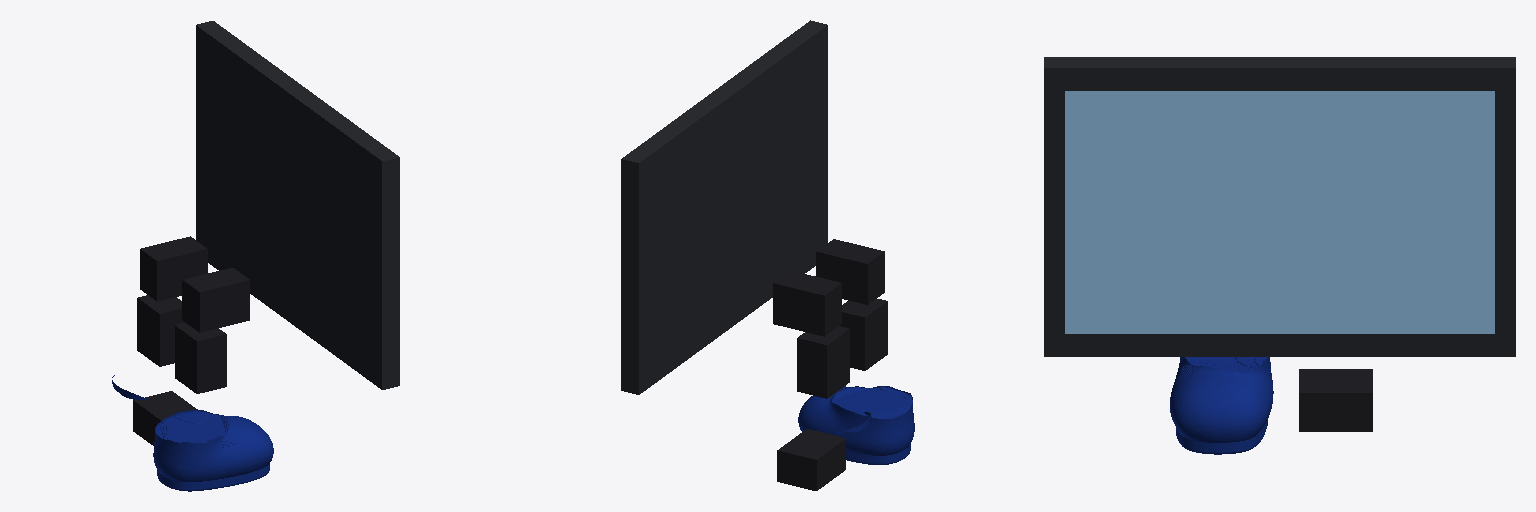
The robot description file, URDF, robot "haetburi":
<?xml version="1.0"?>
<!-- Haetburi biped (v17_xl330) - generated by tools/build_model.py, do not edit by hand -->
<robot name="haetburi">
  <mujoco>
    <compiler meshdir="." balanceinertia="true" discardvisual="false" strippath="false" fusestatic="false"/>
  </mujoco>
  <material name="display"><color rgba="0.18 0.19 0.21 1"/></material>
  <material name="screen"><color rgba="0.62 0.80 0.95 1"/></material>
  <material name="shell"><color rgba="0.106 0.216 0.541 1"/></material>
  <material name="motor"><color rgba="0.15 0.15 0.17 1"/></material>
  <material name="foot"><color rgba="0.25 0.25 0.28 1"/></material>
  <link name="world"/>
  <joint name="floating_base" type="floating">
    <parent link="world"/><child link="pelvis"/>
    <origin xyz="0 0 0" rpy="0 0 0"/>
  </joint>
  <link name="pelvis">
    <inertial>
      <origin xyz="-0.00666957 -8.5472e-05 0.0445616" rpy="0 0 0"/>
      <mass value="0.267671"/>
      <inertia ixx="0.000335398" ixy="2.19042e-07" ixz="9.11995e-05" iyy="0.00041301" iyz="-4.80588e-07" izz="0.000347803"/>
    </inertial>
    <visual><origin xyz="0 0 0" rpy="0 0 0"/><geometry><mesh filename="meshes/pelvis.stl"/></geometry><material name="shell"/></visual>
    <visual><origin xyz="0.0153026 0.0245857 0.0585" rpy="0 0 0"/><geometry><box size="0.034 0.02 0.026"/></geometry><material name="motor"/></visual>
    <visual><origin xyz="0.0152974 -0.024889 0.0585" rpy="0 0 0"/><geometry><box size="0.034 0.02 0.026"/></geometry><material name="motor"/></visual>
    <collision><origin xyz="0.0074988 -0.000146911 0.0206246" rpy="0 0 0"/><geometry><box size="0.089907 0.119391 0.0636709"/></geometry></collision>
  </link>
  <link name="torso">
    <inertial>
      <origin xyz="0.0209973 0.000105379 0.131628" rpy="0 0 0"/>
      <mass value="2.15535"/>
      <inertia ixx="0.0354852" ixy="-0.000105161" ixz="0.0063203" iyy="0.0356991" iyz="-0.000100818" izz="0.0195041"/>
    </inertial>
    <visual><origin xyz="0 0 0" rpy="0 0 0"/><geometry><mesh filename="meshes/torso.stl"/></geometry><material name="shell"/></visual>
    <visual><origin xyz="0.0843686 0 0.0406669" rpy="0 0 0"/><geometry><box size="0.011868 0.217236 0.146854"/></geometry><material name="display"/></visual>
    <visual><origin xyz="0.0903026 0 0.0406669" rpy="0 0 0"/><geometry><box size="0.0004 0.198144 0.12384"/></geometry><material name="screen"/></visual>
    <collision><origin xyz="-0.0391719 -1.82352e-06 0.0288995" rpy="0 0 0"/><geometry><box size="0.183869 0.124676 0.122779"/></geometry></collision>
    <collision><origin xyz="0.0478332 0.0965728 0.0582346" rpy="0 0 0"/><geometry><sphere radius="0.0698567"/></geometry></collision>
    <collision><origin xyz="0.0481639 -0.0967208 0.0582346" rpy="0 0 0"/><geometry><sphere radius="0.0697895"/></geometry></collision>
    <collision><origin xyz="-0.00600387 0.000307043 0.117894" rpy="0 0 0"/><geometry><sphere radius="0.119818"/></geometry></collision>
    <collision><origin xyz="-0.010462 -0.000141163 0.173068" rpy="0 0 0"/><geometry><sphere radius="0.138234"/></geometry></collision>
    <collision><origin xyz="-0.0159306 -0.000232984 0.22825" rpy="0 0 0"/><geometry><sphere radius="0.136633"/></geometry></collision>
    <collision><origin xyz="-0.0124975 0.000984204 0.28343" rpy="0 0 0"/><geometry><sphere radius="0.118808"/></geometry></collision>
    <collision><origin xyz="-0.00739515 0.00779025 0.338644" rpy="0 0 0"/><geometry><sphere radius="0.0846824"/></geometry></collision>
    <collision><origin xyz="-0.0135526 -0.00257485 0.393809" rpy="0 0 0"/><geometry><sphere radius="0.0491437"/></geometry></collision>
    <collision><origin xyz="0.0843686 0 0.0406669" rpy="0 0 0"/><geometry><box size="0.011868 0.217236 0.146854"/></geometry></collision>
  </link>
  <link name="leg_l">
    <inertial>
      <origin xyz="-0.000699487 0.00291179 -0.0292972" rpy="0 0 0"/>
      <mass value="0.0242306"/>
      <inertia ixx="8.87128e-06" ixy="-5.11432e-08" ixz="8.10992e-08" iyy="7.69079e-06" iyz="8.21055e-09" izz="3.12544e-06"/>
    </inertial>
    <visual><origin xyz="0 0 0" rpy="0 0 0"/><geometry><mesh filename="meshes/leg_l.stl"/></geometry><material name="shell"/></visual>
    <collision><origin xyz="-0.0235945 0.00314161 -0.0245021" rpy="0 0 0"/><geometry><box size="0.0109644 0.0364972 0.00495935"/></geometry></collision>
  </link>
  <link name="hip_l">
    <inertial>
      <origin xyz="0 -0.0025438 0.0216296" rpy="0 0 0"/>
      <mass value="0.0258671"/>
      <inertia ixx="2.96738e-06" ixy="0" ixz="0" iyy="2.54106e-06" iyz="5.05018e-08" izz="1.62632e-06"/>
    </inertial>
    <visual><origin xyz="0 -0.003 0.0235" rpy="0 0 0"/><geometry><box size="0.02 0.026 0.034"/></geometry><material name="motor"/></visual>
  </link>
  <link name="foot_l">
    <inertial>
      <origin xyz="0.000570459 0.00729492 -0.00247672" rpy="0 0 0"/>
      <mass value="0.0748228"/>
      <inertia ixx="1.96951e-05" ixy="-9.29192e-07" ixz="-2.12843e-07" iyy="2.7127e-05" iyz="-1.3687e-06" izz="3.21932e-05"/>
    </inertial>
    <visual><origin xyz="0 0 0" rpy="0 0 0"/><geometry><mesh filename="meshes/foot_l.stl"/></geometry><material name="shell"/></visual>
    <visual><origin xyz="0 0.0088 5.38845e-19" rpy="0 0 0"/><geometry><box size="0.026 0.034 0.02"/></geometry><material name="motor"/></visual>
    <collision><origin xyz="0 0 0" rpy="0 0 0"/><geometry><mesh filename="meshes/foot_l.stl"/></geometry></collision>
  </link>
  <link name="leg_r">
    <inertial>
      <origin xyz="-0.000620053 -0.00292149 -0.0292557" rpy="0 0 0"/>
      <mass value="0.0241549"/>
      <inertia ixx="8.84594e-06" ixy="4.63019e-08" ixz="7.42586e-08" iyy="7.62395e-06" iyz="-7.75735e-09" izz="3.06764e-06"/>
    </inertial>
    <visual><origin xyz="0 0 0" rpy="0 0 0"/><geometry><mesh filename="meshes/leg_r.stl"/></geometry><material name="shell"/></visual>
    <collision><origin xyz="-0.0239188 -0.00217682 -0.0244277" rpy="0 0 0"/><geometry><box size="0.0102409 0.0341275 0.00479304"/></geometry></collision>
  </link>
  <link name="hip_r">
    <inertial>
      <origin xyz="0 0.0025438 0.0216296" rpy="0 0 0"/>
      <mass value="0.0258671"/>
      <inertia ixx="2.96738e-06" ixy="0" ixz="0" iyy="2.54106e-06" iyz="-5.05018e-08" izz="1.62632e-06"/>
    </inertial>
    <visual><origin xyz="0 0.003 0.0235" rpy="0 0 0"/><geometry><box size="0.02 0.026 0.034"/></geometry><material name="motor"/></visual>
  </link>
  <link name="foot_r">
    <inertial>
      <origin xyz="0.000927024 -0.00706758 -0.0025199" rpy="0 0 0"/>
      <mass value="0.0746564"/>
      <inertia ixx="1.95107e-05" ixy="1.01942e-06" ixz="-2.354e-07" iyy="2.70292e-05" iyz="1.32726e-06" izz="3.20543e-05"/>
    </inertial>
    <visual><origin xyz="0 0 0" rpy="0 0 0"/><geometry><mesh filename="meshes/foot_r.stl"/></geometry><material name="shell"/></visual>
    <visual><origin xyz="0 -0.0088 5.38845e-19" rpy="0 0 0"/><geometry><box size="0.026 0.034 0.02"/></geometry><material name="motor"/></visual>
    <collision><origin xyz="0 0 0" rpy="0 0 0"/><geometry><mesh filename="meshes/foot_r.stl"/></geometry></collision>
  </link>
  <joint name="waist_fixed" type="fixed">
    <parent link="pelvis"/><child link="torso"/>
    <origin xyz="0 0 0.05246" rpy="0 0 0"/>
  </joint>
  <joint name="hip_yaw_l" type="revolute">
    <parent link="pelvis"/><child link="hip_l"/>
    <origin xyz="0.00650265 0.0245857 0" rpy="0 0 0"/>
    <axis xyz="0 0 1"/>
    <limit lower="-0.401426" upper="0.401426" effort="0.52" velocity="10.79"/>
    <dynamics damping="0.037142857142857144" friction="0.014857142857142859"/>
  </joint>
  <joint name="hip_pitch_l" type="revolute">
    <parent link="hip_l"/><child link="leg_l"/>
    <origin xyz="0 -0.003 0.0147" rpy="0 0 0"/>
    <axis xyz="0 1 0"/>
    <limit lower="-0.785398" upper="0.418879" effort="0.52" velocity="10.79"/>
    <dynamics damping="0.037142857142857144" friction="0.014857142857142859"/>
  </joint>
  <joint name="hip_yaw_r" type="revolute">
    <parent link="pelvis"/><child link="hip_r"/>
    <origin xyz="0.00649735 -0.024889 0" rpy="0 0 0"/>
    <axis xyz="0 0 1"/>
    <limit lower="-0.401426" upper="0.401426" effort="0.52" velocity="10.79"/>
    <dynamics damping="0.037142857142857144" friction="0.014857142857142859"/>
  </joint>
  <joint name="hip_pitch_r" type="revolute">
    <parent link="hip_r"/><child link="leg_r"/>
    <origin xyz="0 0.003 0.0147" rpy="0 0 0"/>
    <axis xyz="0 1 0"/>
    <limit lower="-0.785398" upper="0.418879" effort="0.52" velocity="10.79"/>
    <dynamics damping="0.037142857142857144" friction="0.014857142857142859"/>
  </joint>
  <joint name="ankle_roll_l" type="revolute">
    <parent link="leg_l"/><child link="foot_l"/>
    <origin xyz="0.00518133 -0.00442343 -0.05394" rpy="0 0 0"/>
    <axis xyz="1 0 0"/>
    <limit lower="-0.261799" upper="0.261799" effort="0.52" velocity="10.79"/>
    <dynamics damping="0.037142857142857144" friction="0.014857142857142859"/>
  </joint>
  <joint name="ankle_roll_r" type="revolute">
    <parent link="leg_r"/><child link="foot_r"/>
    <origin xyz="0.00444167 0.00399945 -0.05394" rpy="0 0 0"/>
    <axis xyz="1 0 0"/>
    <limit lower="-0.261799" upper="0.261799" effort="0.52" velocity="10.79"/>
    <dynamics damping="0.037142857142857144" friction="0.014857142857142859"/>
  </joint>
</robot>

--- What the picture shows (computed from the rendered views, not written in the file) ---
Views: 3 orthographic renders of the robot side by side, from view 1: azimuth 30°, elevation 25°; view 2: azimuth 150°, elevation 25°; view 3: azimuth 270°, elevation 25°.
Robot: haetburi — 9 links, 8 joints (6 revolute, 1 fixed, 1 floating); root link world; default pose: all joints at 0.
Visible links, largest first — view 1: torso, foot_r, pelvis, hip_r, hip_l, foot_l; view 2: torso, pelvis, foot_r, foot_l, hip_l, hip_r; view 3: torso, foot_r, foot_l.
Boxes of the visible links, <box> form: torso: <box>196,21,399,389</box>; foot_r: <box>153,410,273,491</box>; pelvis: <box>140,236,249,332</box>; hip_r: <box>175,323,226,393</box>; hip_l: <box>137,295,184,366</box>; foot_l: <box>133,391,197,445</box>; torso: <box>621,20,827,394</box>; pelvis: <box>773,239,884,336</box>; foot_r: <box>798,386,914,464</box>; foot_l: <box>777,429,845,490</box>; hip_l: <box>797,326,849,398</box>; hip_r: <box>840,299,887,370</box>; torso: <box>1044,57,1515,356</box>; foot_r: <box>1170,357,1273,454</box>; foot_l: <box>1299,369,1372,431</box>.
Bounding box of the posed robot: 0.1137 × 0.2172 × 0.2182 m (x, y, z).
Meshes: 6 distinct files referenced, 2 mesh visuals loaded (2 binary STL); not drawn: 4 (reference not matched to a file when rendering).
